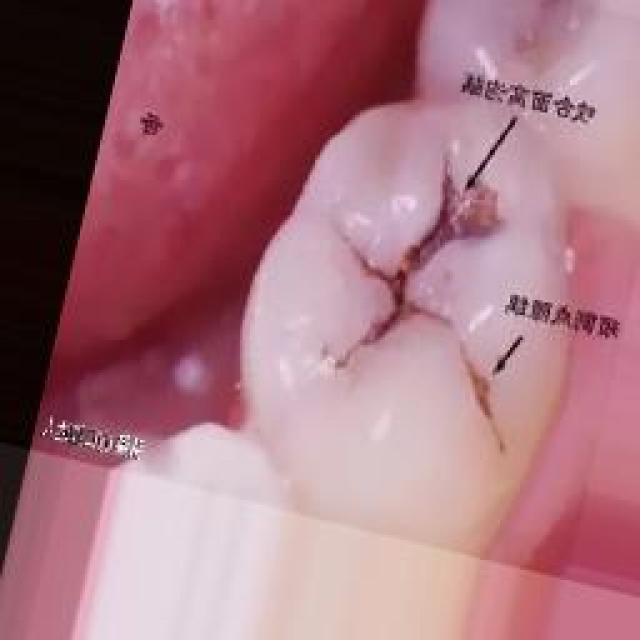decay: (343, 175, 505, 400)
